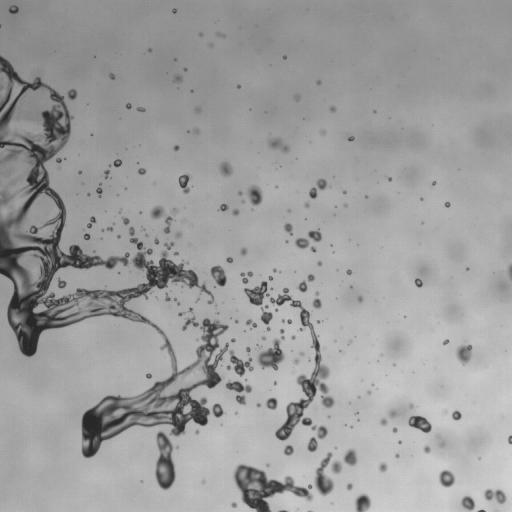droplet: (454, 339, 472, 365), (308, 178, 331, 198), (408, 414, 431, 433), (246, 184, 263, 206), (210, 264, 226, 287), (483, 488, 506, 504), (438, 469, 455, 487), (354, 493, 371, 511), (178, 173, 192, 194), (460, 495, 475, 511), (219, 161, 232, 177), (240, 271, 253, 284), (265, 397, 277, 410), (245, 318, 257, 330), (296, 279, 307, 292), (86, 216, 96, 229), (283, 222, 293, 235), (451, 409, 462, 420), (283, 444, 294, 455), (181, 76, 192, 87), (43, 158, 54, 169), (57, 241, 68, 252), (80, 245, 91, 256), (127, 245, 138, 256), (149, 253, 160, 264), (222, 265, 233, 276), (205, 276, 216, 287), (247, 277, 258, 288), (289, 288, 300, 299), (125, 298, 136, 309), (251, 305, 262, 316), (308, 309, 319, 320), (269, 317, 280, 328), (285, 323, 296, 334), (193, 326, 204, 337), (38, 329, 49, 340), (6, 331, 17, 342), (216, 333, 227, 344), (8, 337, 19, 348), (262, 339, 273, 350), (448, 340, 459, 351), (157, 369, 168, 380), (227, 370, 238, 381), (197, 384, 208, 395), (189, 388, 200, 399), (294, 389, 305, 400), (185, 419, 196, 430), (161, 422, 172, 433), (292, 422, 303, 433), (72, 423, 83, 434), (302, 426, 313, 437), (147, 437, 158, 448), (313, 449, 324, 460), (333, 450, 344, 461), (322, 466, 333, 477), (305, 473, 316, 484), (350, 487, 361, 498), (231, 488, 242, 499), (281, 489, 292, 500), (473, 496, 484, 507), (67, 88, 77, 100), (388, 408, 398, 419), (57, 277, 66, 289), (172, 73, 182, 83), (378, 461, 387, 472), (0, 207, 9, 218), (217, 203, 229, 211), (344, 132, 354, 141), (379, 416, 388, 426), (280, 318, 292, 325), (414, 278, 423, 287), (12, 82, 21, 91), (57, 87, 66, 96), (272, 147, 281, 156), (216, 154, 225, 163), (228, 159, 237, 168), (212, 167, 221, 176), (219, 174, 228, 183), (224, 174, 233, 183), (240, 184, 249, 193), (241, 192, 250, 201), (143, 205, 152, 214), (162, 206, 171, 215), (169, 221, 178, 230), (165, 232, 174, 241), (158, 233, 167, 242), (142, 239, 151, 248), (231, 250, 240, 259), (310, 252, 319, 261), (171, 256, 180, 265), (220, 261, 229, 270), (3, 292, 12, 301), (303, 301, 312, 310), (292, 317, 301, 326), (250, 350, 259, 359), (238, 352, 247, 361), (449, 352, 458, 361), (250, 358, 259, 367), (214, 365, 223, 374), (145, 378, 154, 387), (215, 381, 224, 390), (326, 388, 335, 397), (204, 400, 213, 409), (301, 408, 310, 417), (206, 412, 215, 421), (311, 417, 320, 426), (386, 418, 395, 427), (168, 434, 177, 443), (151, 449, 160, 458), (170, 454, 179, 463), (245, 458, 254, 467), (254, 461, 263, 470), (340, 461, 349, 470), (226, 467, 235, 476), (264, 471, 273, 480), (293, 478, 302, 487), (309, 486, 318, 495), (8, 5, 18, 13), (55, 157, 66, 164), (170, 207, 178, 216), (121, 216, 129, 225), (505, 489, 511, 500), (346, 505, 357, 511), (363, 505, 374, 511), (307, 274, 315, 282), (137, 168, 146, 175), (240, 247, 247, 256), (231, 208, 239, 215), (423, 445, 430, 453), (345, 483, 353, 490), (7, 0, 18, 5), (0, 69, 5, 80), (0, 88, 5, 99), (0, 307, 5, 318), (293, 94, 300, 101), (329, 105, 336, 112), (194, 106, 201, 113), (175, 231, 182, 238), (408, 402, 415, 409), (12, 65, 19, 72), (17, 71, 24, 78), (26, 76, 33, 83), (63, 96, 70, 103), (271, 131, 278, 138), (281, 137, 288, 144), (262, 142, 269, 149), (288, 144, 295, 151), (109, 165, 116, 172), (1, 177, 8, 184), (325, 177, 332, 184), (47, 181, 54, 188), (7, 186, 14, 193), (303, 186, 310, 193), (315, 188, 322, 195), (260, 192, 267, 199), (59, 193, 66, 200), (244, 198, 251, 205), (62, 199, 69, 206), (236, 203, 243, 210), (253, 203, 260, 210), (225, 207, 232, 214), (158, 215, 165, 222), (63, 216, 70, 223), (301, 231, 308, 238), (289, 235, 296, 242), (307, 237, 314, 244), (294, 246, 301, 253), (303, 246, 310, 253), (63, 248, 70, 255), (166, 253, 173, 260), (101, 254, 108, 261), (143, 254, 150, 261), (152, 259, 159, 266), (501, 265, 508, 272), (501, 268, 508, 275), (305, 280, 312, 287), (150, 284, 157, 291), (6, 290, 13, 297), (261, 296, 268, 303), (283, 299, 290, 306), (178, 304, 185, 311), (267, 305, 274, 312), (185, 311, 192, 318), (308, 315, 315, 322), (178, 317, 185, 324), (218, 317, 225, 324), (238, 318, 245, 325), (226, 319, 233, 326), (256, 319, 263, 326), (139, 321, 146, 328), (281, 322, 288, 329), (5, 325, 12, 332), (273, 331, 280, 338), (306, 338, 313, 345), (217, 341, 224, 348), (469, 348, 476, 355), (222, 352, 229, 359), (19, 353, 26, 360), (190, 353, 197, 360), (319, 358, 326, 365), (276, 360, 283, 367), (176, 363, 183, 370), (265, 365, 272, 372), (164, 370, 171, 377), (290, 374, 297, 381), (200, 383, 207, 390), (315, 388, 322, 395), (230, 389, 237, 396), (360, 391, 367, 398), (259, 398, 266, 405), (85, 402, 92, 409), (325, 406, 332, 413), (413, 409, 420, 416), (381, 411, 388, 418), (280, 414, 287, 421), (349, 417, 356, 424), (413, 427, 420, 434), (310, 430, 317, 437), (393, 432, 400, 439), (282, 438, 289, 445), (302, 438, 309, 445), (100, 439, 107, 446), (93, 451, 100, 458), (354, 451, 361, 458), (385, 461, 392, 468), (372, 462, 379, 469), (149, 464, 156, 471), (445, 464, 452, 471), (172, 465, 179, 472), (229, 465, 236, 472), (385, 465, 392, 472), (449, 467, 456, 474), (433, 473, 440, 480), (278, 476, 285, 483), (151, 479, 158, 486), (229, 479, 236, 486), (170, 481, 177, 488), (447, 484, 454, 491), (490, 484, 497, 491), (441, 485, 448, 492), (501, 486, 508, 493), (326, 490, 333, 497), (273, 491, 280, 498), (367, 493, 374, 500), (298, 495, 305, 502), (490, 496, 497, 503), (496, 502, 503, 509), (473, 503, 480, 510), (82, 233, 90, 239), (357, 295, 363, 303), (136, 107, 145, 112), (154, 236, 159, 245), (108, 73, 115, 79), (319, 129, 326, 135), (173, 144, 179, 151), (304, 201, 310, 208), (226, 257, 233, 263), (230, 337, 236, 344), (442, 339, 449, 345), (292, 358, 299, 364), (230, 502, 237, 508), (125, 103, 131, 109), (444, 201, 450, 207), (310, 246, 316, 252), (346, 269, 352, 275), (441, 409, 447, 415), (435, 433, 441, 439), (172, 251, 179, 256), (268, 275, 273, 282), (347, 339, 352, 346), (172, 8, 177, 14), (386, 176, 392, 181), (317, 260, 322, 266), (146, 373, 152, 378), (392, 427, 397, 433), (229, 507, 236, 511), (249, 507, 256, 511), (461, 507, 468, 511), (470, 507, 477, 511), (316, 80, 321, 85), (431, 181, 436, 186), (237, 190, 242, 195), (261, 335, 266, 340), (291, 335, 296, 340), (366, 390, 371, 395), (9, 12, 14, 17), (219, 28, 224, 33), (217, 36, 222, 41), (2, 54, 7, 59), (179, 70, 184, 75), (113, 71, 118, 76), (169, 74, 174, 79), (40, 77, 45, 82), (320, 79, 325, 84), (311, 80, 316, 85), (173, 81, 178, 86), (49, 83, 54, 88), (75, 93, 80, 98), (72, 97, 77, 102), (139, 102, 144, 107), (4, 103, 9, 108), (130, 105, 135, 110), (324, 105, 329, 110), (2, 106, 7, 111), (335, 106, 340, 111), (68, 110, 73, 115), (330, 111, 335, 116), (69, 119, 74, 124), (69, 125, 74, 130), (187, 125, 192, 130), (174, 140, 179, 145), (169, 142, 174, 147), (3, 144, 8, 149), (178, 145, 183, 150), (175, 149, 180, 154), (52, 154, 57, 159), (137, 163, 142, 168), (103, 165, 108, 170), (137, 173, 142, 178), (9, 174, 14, 179), (321, 174, 326, 179), (99, 176, 104, 181), (186, 181, 191, 186), (100, 184, 105, 189), (178, 186, 183, 191), (323, 186, 328, 191), (53, 187, 58, 192), (232, 190, 237, 195), (184, 192, 189, 197), (25, 193, 30, 198), (305, 194, 310, 199), (236, 195, 241, 200), (309, 197, 314, 202), (299, 201, 304, 206), (215, 203, 220, 208), (337, 203, 342, 208), (303, 207, 308, 212), (231, 214, 236, 219), (85, 218, 90, 223), (288, 219, 293, 224), (106, 221, 111, 226), (126, 222, 131, 227), (162, 222, 167, 227), (168, 225, 173, 230), (311, 226, 316, 231), (290, 227, 295, 232), (85, 228, 90, 233), (145, 228, 150, 233), (60, 229, 65, 234), (319, 229, 324, 234), (98, 231, 103, 236), (284, 231, 289, 236), (320, 232, 325, 237), (131, 233, 136, 238), (158, 240, 163, 245), (131, 242, 136, 247), (243, 243, 248, 248), (161, 245, 166, 250), (170, 246, 175, 251), (246, 248, 251, 253), (94, 250, 99, 255), (88, 252, 93, 257), (119, 252, 124, 257), (312, 259, 317, 264), (321, 260, 326, 265), (211, 261, 216, 266), (242, 268, 247, 273), (206, 269, 211, 274), (309, 269, 314, 274), (195, 271, 200, 276), (269, 271, 274, 276), (263, 276, 268, 281), (166, 278, 171, 283), (224, 279, 229, 284), (197, 280, 202, 285), (256, 281, 261, 286), (294, 281, 299, 286), (266, 282, 271, 287), (215, 283, 220, 288), (183, 284, 188, 289), (191, 285, 196, 290), (205, 285, 210, 290), (161, 286, 166, 291), (279, 290, 284, 295), (286, 290, 291, 295), (201, 291, 206, 296), (167, 292, 172, 297), (139, 294, 144, 299), (205, 294, 210, 299), (316, 294, 321, 299), (361, 294, 366, 299), (244, 296, 249, 301), (352, 296, 357, 301), (319, 298, 324, 303), (169, 299, 174, 304), (208, 303, 213, 308), (250, 303, 255, 308), (264, 307, 269, 312), (296, 307, 301, 312), (271, 311, 276, 316), (142, 312, 147, 317), (2, 314, 7, 319), (99, 314, 104, 319), (108, 314, 113, 319), (117, 315, 122, 320), (242, 316, 247, 321), (83, 317, 88, 322), (3, 318, 8, 323), (268, 319, 273, 324), (197, 320, 202, 325), (71, 322, 76, 327), (156, 322, 161, 327), (297, 322, 302, 327), (187, 323, 192, 328), (62, 325, 67, 330), (304, 325, 309, 330), (58, 326, 63, 331), (151, 327, 156, 332), (441, 335, 446, 340), (317, 338, 322, 343), (342, 338, 347, 343), (160, 339, 165, 344), (169, 340, 174, 345), (227, 344, 232, 349), (278, 344, 283, 349), (318, 344, 323, 349), (249, 345, 254, 350), (163, 347, 168, 352), (310, 347, 315, 352), (174, 352, 179, 357), (165, 354, 170, 359), (297, 355, 302, 360), (310, 359, 315, 364), (249, 360, 254, 365), (243, 366, 248, 371), (229, 367, 234, 372), (241, 381, 246, 386), (297, 384, 302, 389), (369, 386, 374, 391), (250, 387, 255, 392), (239, 390, 244, 395), (112, 391, 117, 396), (101, 392, 106, 397), (119, 392, 124, 397), (268, 393, 273, 398), (98, 394, 103, 399), (302, 394, 307, 399), (294, 397, 299, 402), (233, 400, 238, 405), (412, 400, 417, 405), (308, 401, 313, 406), (331, 403, 336, 408), (221, 406, 226, 411), (268, 408, 273, 413), (458, 408, 463, 413), (447, 411, 452, 416), (219, 414, 224, 419), (425, 416, 430, 421), (375, 417, 380, 422), (450, 418, 455, 423), (456, 418, 461, 423), (310, 420, 315, 425), (131, 424, 136, 429), (305, 424, 310, 429), (379, 424, 384, 429), (128, 425, 133, 430), (139, 425, 144, 430), (325, 425, 330, 430), (430, 425, 435, 430), (120, 430, 125, 435), (427, 430, 432, 435), (178, 432, 183, 437), (325, 432, 330, 437), (113, 434, 118, 439), (503, 435, 508, 440), (314, 436, 319, 441), (274, 437, 279, 442), (503, 438, 508, 443), (291, 443, 296, 448), (428, 443, 433, 448), (429, 447, 434, 452), (419, 448, 424, 453), (305, 449, 310, 454), (78, 452, 83, 457), (290, 452, 295, 457), (424, 452, 429, 457), (282, 453, 287, 458), (321, 453, 326, 458), (286, 454, 291, 459), (328, 458, 333, 463), (315, 462, 320, 467), (442, 465, 447, 470), (439, 466, 444, 471), (345, 478, 350, 483), (342, 481, 347, 486), (302, 483, 307, 488), (482, 485, 487, 490), (457, 496, 462, 501), (118, 208, 122, 214), (274, 308, 280, 312), (0, 110, 3, 117), (0, 272, 3, 279), (198, 32, 203, 36), (208, 43, 213, 47), (147, 48, 152, 52), (236, 84, 241, 88), (78, 170, 82, 175), (152, 180, 156, 185), (240, 199, 245, 203), (141, 226, 145, 231), (144, 233, 149, 237), (299, 352, 304, 356), (273, 380, 277, 385), (256, 403, 261, 407), (354, 411, 359, 415), (195, 429, 199, 434), (395, 453, 399, 458), (265, 463, 270, 467), (201, 479, 205, 484), (282, 55, 286, 59), (183, 67, 187, 71), (342, 190, 346, 194), (86, 192, 90, 196), (419, 197, 423, 201), (343, 203, 347, 207), (287, 208, 291, 212), (117, 234, 121, 238), (272, 268, 276, 272), (349, 285, 353, 289), (234, 319, 238, 323), (398, 440, 402, 444), (477, 456, 481, 460), (173, 58, 177, 61), (372, 110, 376, 113), (57, 166, 61, 169), (364, 195, 368, 198), (188, 243, 192, 246), (116, 271, 120, 274), (392, 363, 396, 366), (371, 382, 374, 386), (234, 411, 237, 415), (327, 415, 331, 418), (349, 425, 353, 428), (330, 501, 333, 505), (0, 186, 2, 191), (190, 89, 193, 92), (90, 133, 93, 136), (136, 161, 139, 164), (81, 182, 84, 185), (275, 185, 278, 188), (124, 187, 127, 190), (116, 193, 119, 196), (139, 211, 142, 214), (285, 240, 288, 243), (92, 250, 95, 253), (466, 267, 469, 270), (403, 315, 406, 318), (243, 329, 246, 332), (333, 339, 336, 342), (380, 353, 383, 356), (357, 395, 360, 398), (348, 401, 351, 404), (334, 446, 337, 449), (140, 480, 143, 483), (15, 3, 18, 6), (173, 5, 176, 8), (169, 7, 172, 10), (17, 8, 20, 11), (169, 11, 172, 14), (174, 12, 177, 15), (0, 24, 3, 27), (148, 44, 151, 47), (145, 46, 148, 49), (151, 48, 154, 51), (145, 50, 148, 53), (281, 52, 284, 55), (95, 54, 98, 57), (286, 55, 289, 58), (279, 56, 282, 59), (282, 58, 285, 61), (172, 60, 175, 63), (184, 64, 187, 67), (186, 68, 189, 71), (111, 70, 114, 73), (114, 75, 117, 78), (109, 78, 112, 81), (239, 82, 242, 85), (233, 84, 236, 87), (192, 87, 195, 90), (235, 87, 238, 90), (238, 87, 241, 90), (190, 92, 193, 95), (124, 100, 127, 103), (124, 107, 127, 110), (375, 108, 378, 111), (137, 110, 140, 113), (371, 112, 374, 115), (183, 129, 186, 132), (189, 129, 192, 132), (89, 130, 92, 133), (92, 132, 95, 135), (185, 132, 188, 135), (90, 135, 93, 138), (349, 140, 352, 143), (60, 156, 63, 159), (118, 156, 121, 159), (112, 157, 115, 160), (136, 158, 139, 161), (121, 160, 124, 163), (56, 162, 59, 165), (120, 163, 123, 166), (276, 164, 279, 167), (117, 165, 120, 168), (79, 167, 82, 170), (75, 169, 78, 172), (75, 172, 78, 175), (179, 172, 182, 175), (79, 173, 82, 176), (102, 173, 105, 176), (107, 173, 110, 176), (141, 173, 144, 176), (387, 174, 390, 177), (106, 177, 109, 180), (175, 177, 178, 180), (391, 177, 394, 180), (385, 178, 388, 181), (435, 179, 438, 182), (429, 180, 432, 183), (25, 181, 28, 184), (273, 182, 276, 185), (434, 183, 437, 186), (96, 184, 99, 187), (121, 185, 124, 188), (126, 187, 129, 190), (274, 187, 277, 190), (343, 187, 346, 190), (346, 190, 349, 193), (339, 191, 342, 194), (83, 192, 86, 195), (365, 192, 368, 195), (343, 193, 346, 196), (361, 194, 364, 197), (86, 195, 89, 198), (422, 196, 425, 199), (97, 197, 100, 200), (417, 199, 420, 202), (220, 200, 223, 203), (224, 201, 227, 204), (449, 201, 452, 204), (441, 203, 444, 206), (444, 206, 447, 209), (447, 206, 450, 209), (116, 207, 119, 210), (333, 207, 336, 210), (140, 208, 143, 211), (136, 209, 139, 212), (170, 214, 173, 217), (127, 216, 130, 219), (301, 216, 304, 219), (306, 216, 309, 219), (94, 217, 97, 220), (120, 219, 123, 222), (303, 219, 306, 222), (111, 224, 114, 227), (142, 224, 145, 227), (89, 234, 92, 237), (118, 237, 121, 240), (87, 238, 90, 241), (281, 239, 284, 242), (329, 240, 332, 243), (284, 242, 287, 245), (332, 243, 335, 246), (330, 246, 333, 249), (311, 251, 314, 254), (225, 254, 228, 257), (232, 258, 235, 261), (467, 264, 470, 267), (463, 265, 466, 268), (348, 266, 351, 269), (344, 267, 347, 270), (275, 268, 278, 271), (351, 269, 354, 272), (467, 269, 470, 272), (237, 271, 240, 274), (280, 271, 283, 274), (350, 272, 353, 275), (346, 274, 349, 277), (415, 275, 418, 278), (418, 276, 421, 279), (272, 277, 275, 280), (299, 279, 302, 282), (411, 279, 414, 282), (421, 280, 424, 283), (412, 282, 415, 285), (351, 283, 354, 286), (421, 283, 424, 286), (346, 284, 349, 287), (286, 285, 289, 288), (417, 286, 420, 289), (213, 295, 216, 298), (193, 297, 196, 300), (197, 299, 200, 302), (166, 300, 169, 303), (185, 307, 188, 310), (216, 308, 219, 311), (404, 312, 407, 315), (400, 314, 403, 317), (94, 315, 97, 318), (231, 317, 234, 320), (236, 317, 239, 320), (318, 317, 321, 320), (403, 317, 406, 320), (323, 319, 326, 322), (153, 321, 156, 324), (248, 323, 251, 326), (288, 323, 291, 326), (183, 329, 186, 332), (241, 331, 244, 334), (281, 332, 284, 335), (351, 336, 354, 339), (293, 338, 296, 341), (448, 338, 451, 341), (343, 342, 346, 345), (446, 342, 449, 345), (349, 343, 352, 346), (338, 346, 341, 349), (335, 348, 338, 351), (338, 351, 341, 354), (376, 356, 379, 359), (393, 360, 396, 363), (292, 363, 295, 366), (389, 363, 392, 366), (393, 365, 396, 368), (145, 370, 148, 373), (150, 372, 153, 375), (142, 374, 145, 377), (270, 381, 273, 384), (276, 381, 279, 384), (274, 384, 277, 387), (215, 400, 218, 403), (253, 403, 256, 406), (255, 406, 258, 409), (353, 409, 356, 412), (358, 411, 361, 414), (350, 412, 353, 415), (355, 413, 358, 416), (329, 416, 332, 419), (359, 418, 362, 421), (343, 420, 346, 423), (356, 421, 359, 424), (346, 423, 349, 426), (394, 424, 397, 427), (348, 427, 351, 430), (351, 427, 354, 430), (389, 428, 392, 431), (396, 428, 399, 431), (395, 438, 398, 441), (400, 438, 403, 441), (335, 443, 338, 446), (397, 443, 400, 446), (392, 452, 395, 455), (398, 452, 401, 455), (394, 457, 397, 460), (139, 476, 142, 479), (480, 506, 483, 509), (279, 507, 282, 510), (283, 507, 286, 510), (308, 507, 311, 510), (215, 312, 219, 314), (308, 357, 310, 361), (86, 103, 89, 105), (334, 205, 337, 207), (251, 208, 253, 211), (421, 221, 423, 224), (279, 270, 281, 273), (509, 432, 511, 435), (509, 443, 511, 446), (297, 509, 300, 511), (93, 56, 95, 58), (249, 108, 251, 110), (125, 148, 127, 150), (191, 185, 193, 187), (104, 210, 106, 212), (333, 213, 335, 215), (100, 237, 102, 239), (330, 244, 332, 246), (332, 251, 334, 253), (336, 269, 338, 271), (235, 309, 237, 311), (229, 317, 231, 319), (377, 360, 379, 362), (376, 387, 378, 389), (357, 419, 359, 421), (344, 424, 346, 426), (0, 195, 1, 198), (295, 158, 297, 159), (305, 218, 306, 220), (294, 271, 296, 272)
ligament: (243, 281, 334, 452), (155, 430, 179, 490), (150, 205, 175, 233), (294, 227, 322, 249), (267, 137, 290, 153), (164, 292, 182, 306), (312, 291, 321, 309), (101, 222, 115, 232), (179, 218, 193, 227), (186, 127, 200, 135), (108, 159, 122, 167), (96, 182, 102, 197), (507, 263, 511, 281), (216, 32, 226, 37), (507, 435, 511, 444), (338, 349, 345, 354), (277, 509, 289, 511), (316, 320, 323, 323), (476, 509, 486, 511), (155, 296, 159, 300), (295, 507, 299, 511), (220, 421, 222, 426), (493, 510, 499, 511), (307, 510, 312, 511), (0, 24, 1, 28), (340, 327, 343, 328)
